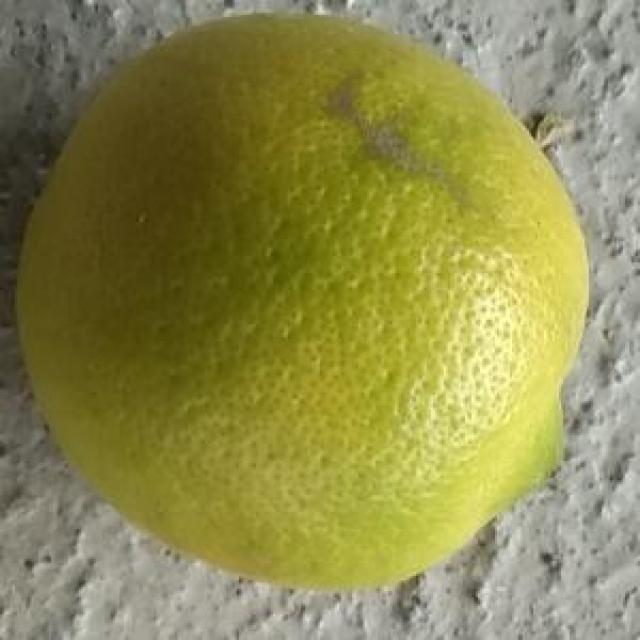lemon: (12, 8, 587, 594)
